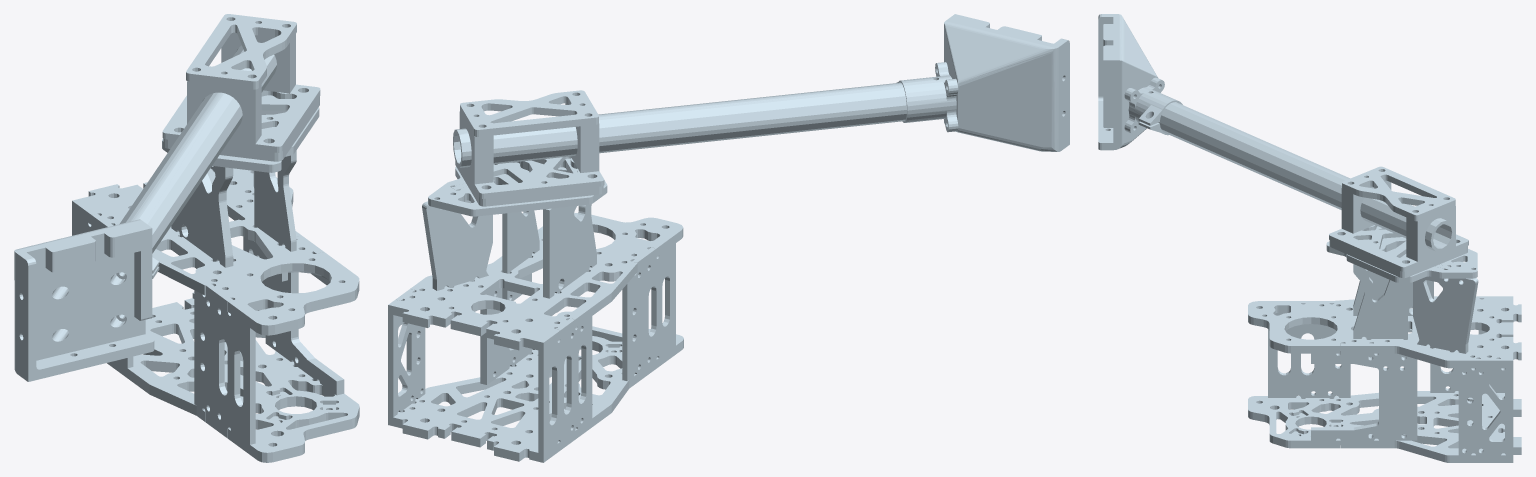
The model's file is wheelbipeV14_2_gimbal_yaw_link_visuals_gimbal_yaw_link_node_STL_BINARY__mesh.obj.
The picture shows the model from 3 angles, left to right: view 1: azimuth 30°, elevation 25°; view 2: azimuth 150°, elevation 25°; view 3: azimuth 270°, elevation 25°; orthographic projection. The views are drawn at different scales.
Size of the model in its own units: 0.2592 by 0.1777 by 0.2552.
